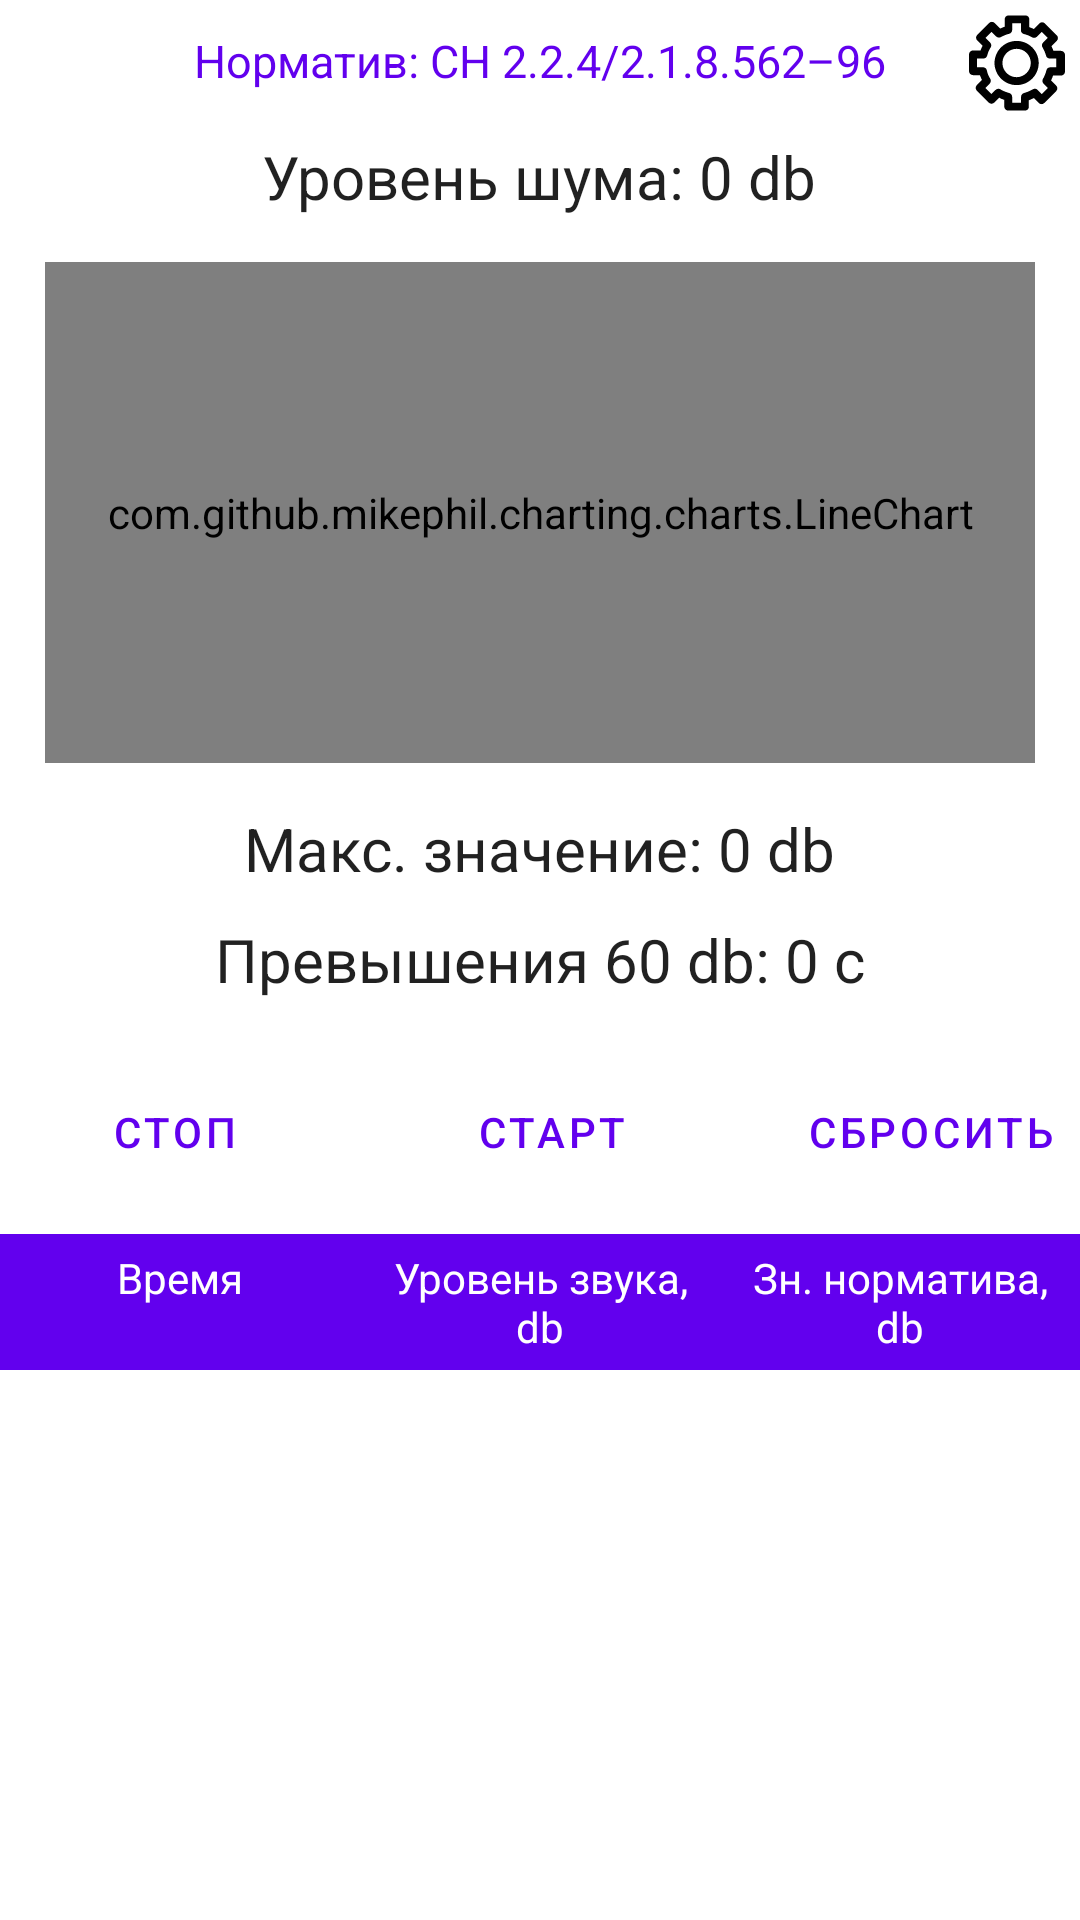

Icons on this 1080 × 1920 Android screen, each with the point to tap as [x,y]:
Setting: [1017,63]
